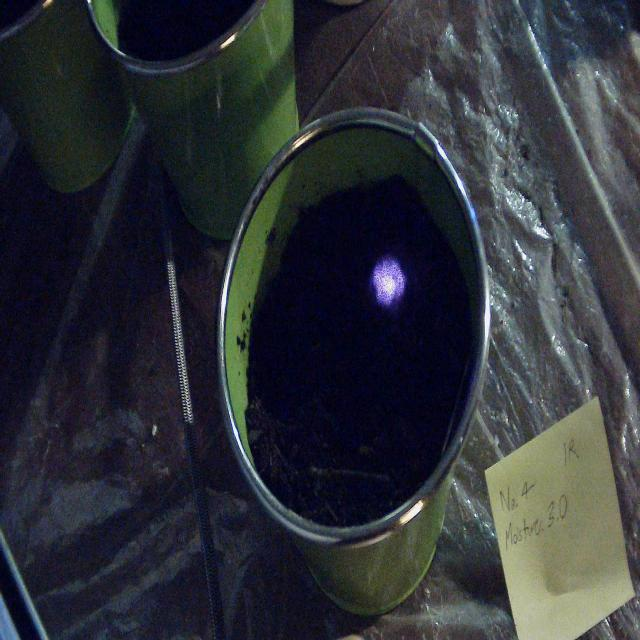soil-moisture-3.0: (371, 256, 406, 307)
